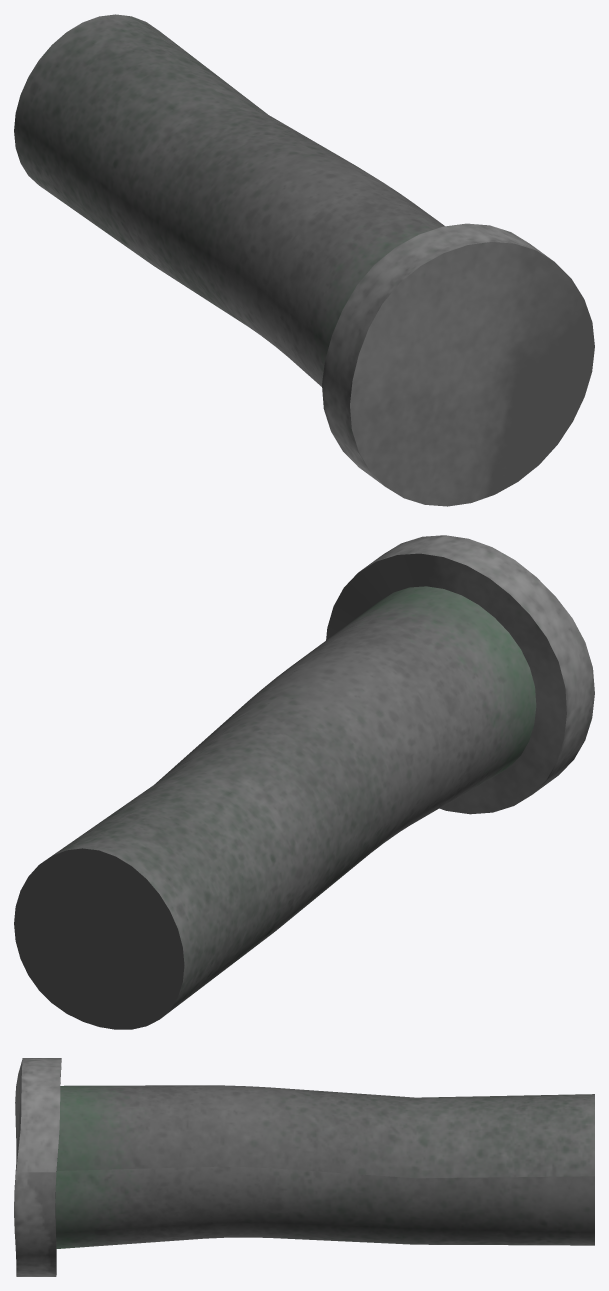
Rendered from SM_Tuberia2_Corta.fbx.
3 renders of one model, top to bottom at view 1: azimuth 30°, elevation 25°; view 2: azimuth 150°, elevation 25°; view 3: azimuth 270°, elevation 25°, orthographic. The views are drawn at different scales.
Visible parts, largest first — view 1: SM_Tuberia5; view 2: SM_Tuberia5; view 3: SM_Tuberia5.
Part boxes in pixels (x1,y1,x2,y2): SM_Tuberia5: (14, 14, 594, 506); SM_Tuberia5: (14, 535, 594, 1029); SM_Tuberia5: (14, 1058, 594, 1276).
Size of the model in its own units: 186 by 186 by 493.
